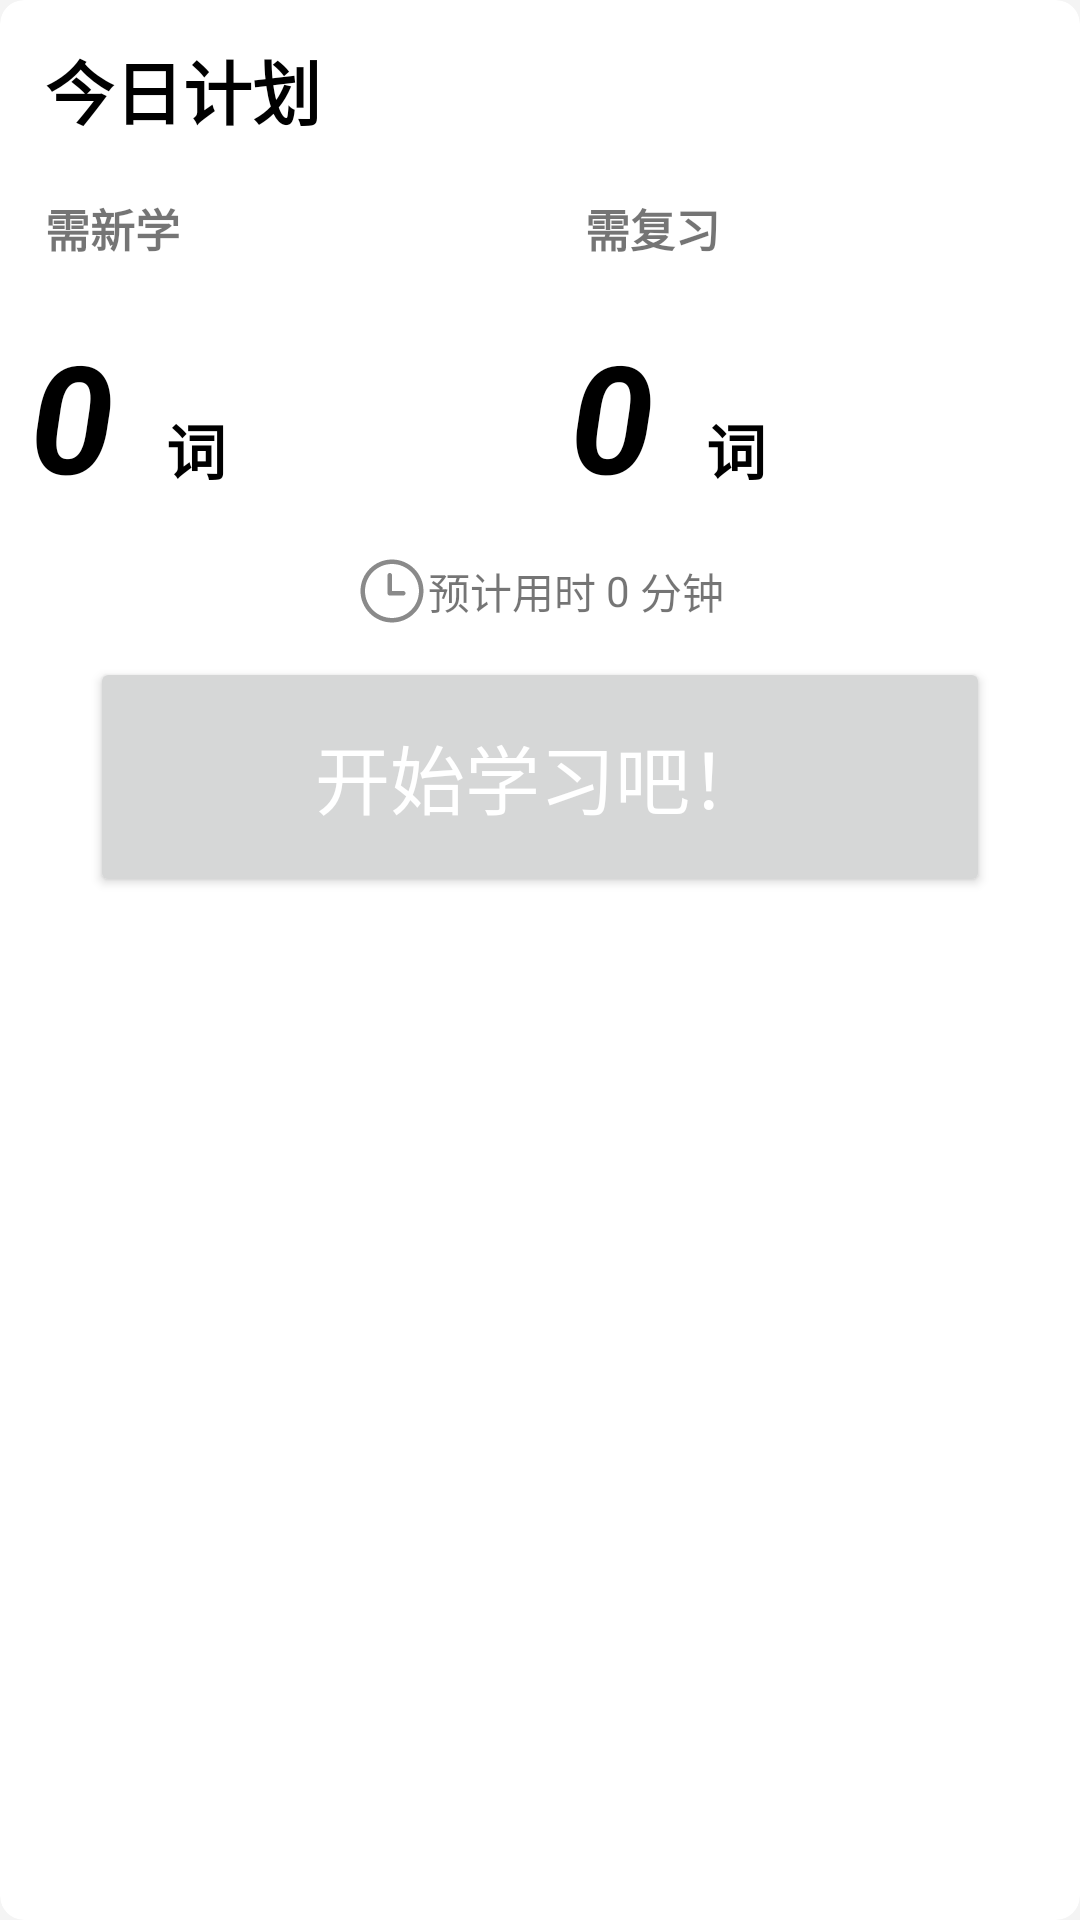

Named icons in this screenshot (1080 × 1920) and their centers, (x=x, y=y):
home clock: (x=392, y=591)
